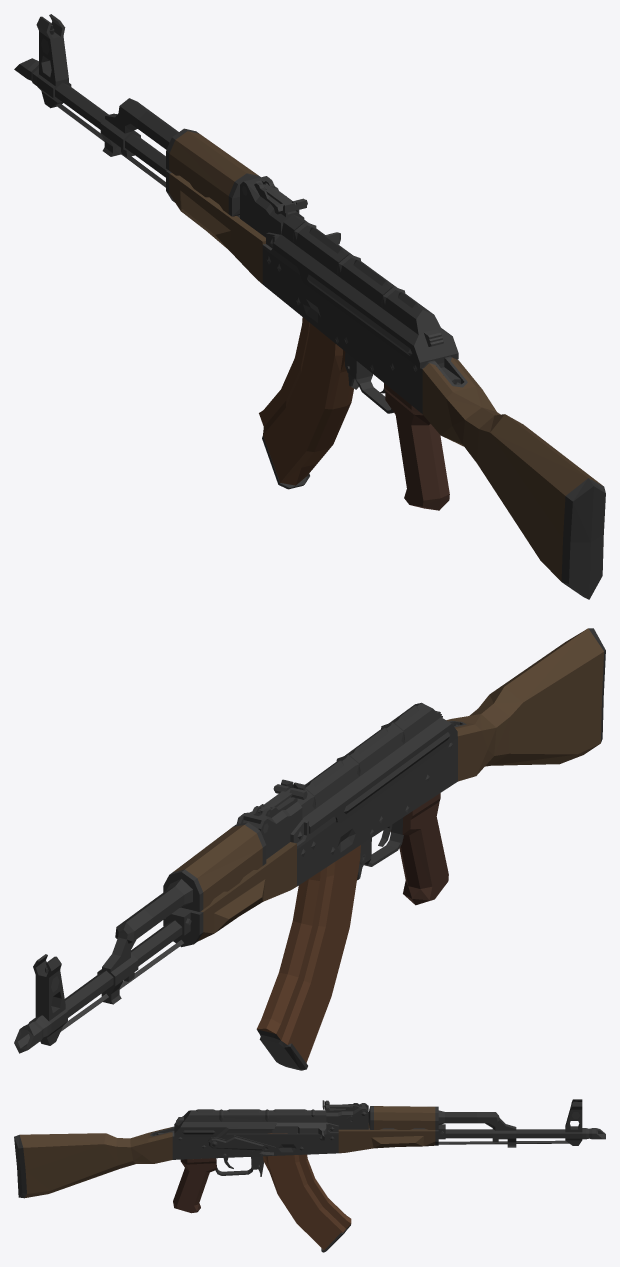
The model's file is low-poly_akm.glb.
The picture shows the model from 3 angles, top to bottom: view 1: azimuth 30°, elevation 25°; view 2: azimuth 150°, elevation 25°; view 3: azimuth 270°, elevation 25°; orthographic projection. The views are drawn at different scales.
Visible parts, largest first — view 1: akm_woodstock_11, akm_dust_cover_3, akm_pmag_13, akm_barrelassembly_6, akm_reciever_9, akm_woodhandguard_8, akm_pgrip_0, akm_rsb_7; view 2: akm_woodstock_11, akm_pmag_13, akm_barrelassembly_6, akm_dust_cover_3, akm_reciever_9, akm_woodhandguard_8, akm_pgrip_0, akm_rsb_7, akm_rear_sight_12, akm_trunnion_front_1; view 3: akm_woodstock_11, akm_pmag_13, akm_barrelassembly_6, akm_reciever_9, akm_woodhandguard_8, akm_dust_cover_3, akm_pgrip_0, akm_rsb_7, akm_boltcarrier_5, akm_fire_selector_2.
Boxes of the visible parts, <box> form: akm_woodstock_11: <box>422,357,605,599</box>; akm_dust_cover_3: <box>273,214,458,368</box>; akm_pmag_13: <box>259,317,353,489</box>; akm_barrelassembly_6: <box>14,14,260,217</box>; akm_reciever_9: <box>262,248,457,413</box>; akm_woodhandguard_8: <box>169,131,265,283</box>; akm_pgrip_0: <box>384,383,449,510</box>; akm_rsb_7: <box>240,176,304,237</box>; akm_woodstock_11: <box>446,628,605,781</box>; akm_pmag_13: <box>256,845,360,1070</box>; akm_barrelassembly_6: <box>14,822,266,1053</box>; akm_dust_cover_3: <box>290,702,457,833</box>; akm_reciever_9: <box>297,736,457,886</box>; akm_woodhandguard_8: <box>173,825,296,941</box>; akm_pgrip_0: <box>391,793,448,905</box>; akm_rsb_7: <box>236,797,302,859</box>; akm_rear_sight_12: <box>258,779,307,815</box>; akm_trunnion_front_1: <box>290,817,336,856</box>; akm_woodstock_11: <box>14,1127,172,1198</box>; akm_pmag_13: <box>263,1133,351,1252</box>; akm_barrelassembly_6: <box>368,1099,605,1147</box>; akm_reciever_9: <box>172,1130,338,1176</box>; akm_woodhandguard_8: <box>338,1106,435,1153</box>; akm_dust_cover_3: <box>174,1109,326,1137</box>; akm_pgrip_0: <box>173,1158,216,1213</box>; akm_rsb_7: <box>326,1103,368,1129</box>; akm_boltcarrier_5: <box>272,1117,326,1140</box>; akm_fire_selector_2: <box>207,1135,275,1155</box>.
Bounding box in the file's own units: 0.3525 × 1.37 × 4.9.
1 material, 1 textured.
